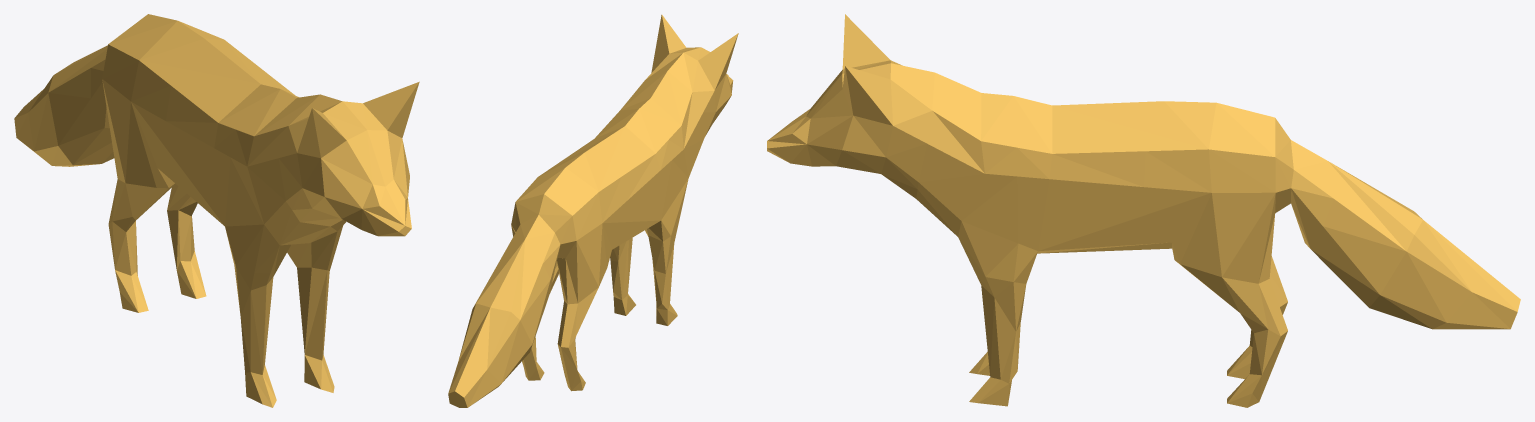
Rendered from card-220.glb.
The picture shows the model from 3 angles, left to right: view 1: azimuth 30°, elevation 25°; view 2: azimuth 150°, elevation 25°; view 3: azimuth 270°, elevation 25°; orthographic projection. The views are drawn at different scales.
Visible parts, largest first — view 1: fox1; view 2: fox1; view 3: fox1.
Boxes of the visible parts, x1,y1,x2,y2 form: fox1: [14, 14, 419, 407]; fox1: [448, 14, 738, 407]; fox1: [767, 14, 1520, 407].
Size of the model in its own units: 0.1115 by 0.35 by 0.6852.
